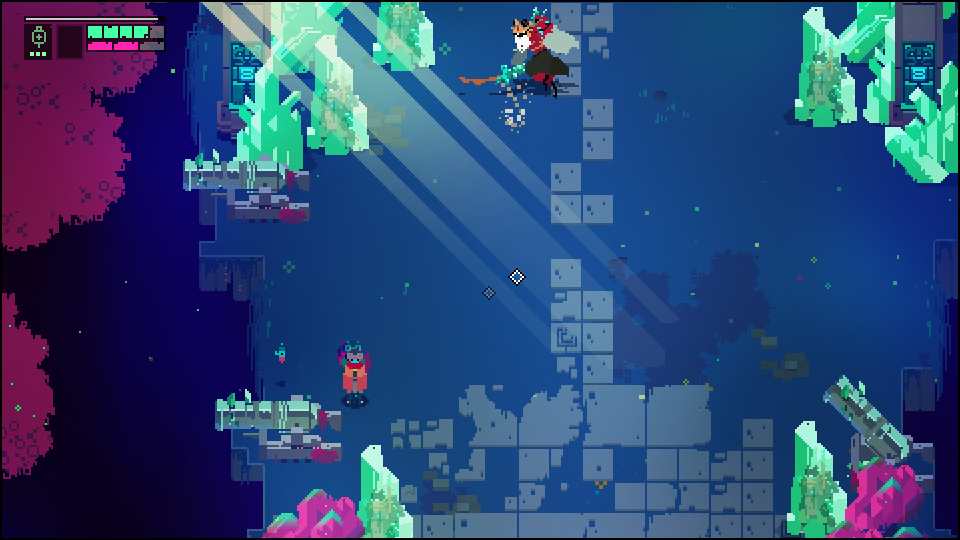hanged_man: (489, 8, 578, 94)
player: (339, 345, 369, 402)
